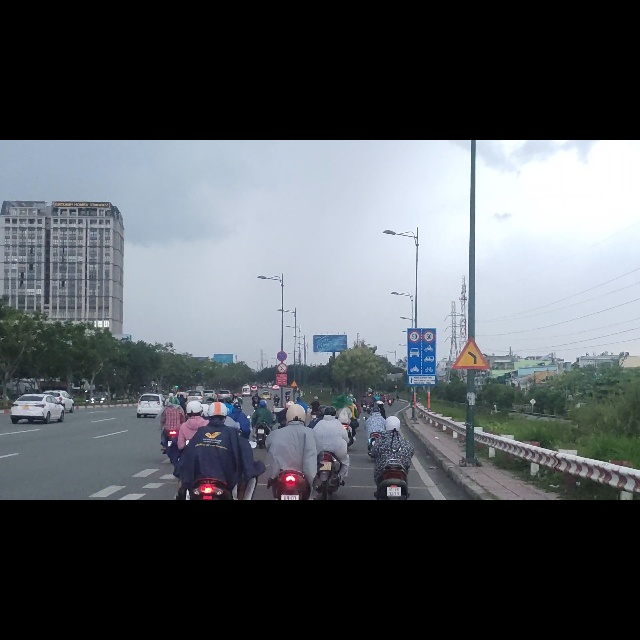bien_cam: (453, 346, 490, 409), (408, 335, 422, 360), (422, 338, 435, 360), (276, 373, 287, 394), (276, 395, 287, 414), (291, 426, 298, 440)
